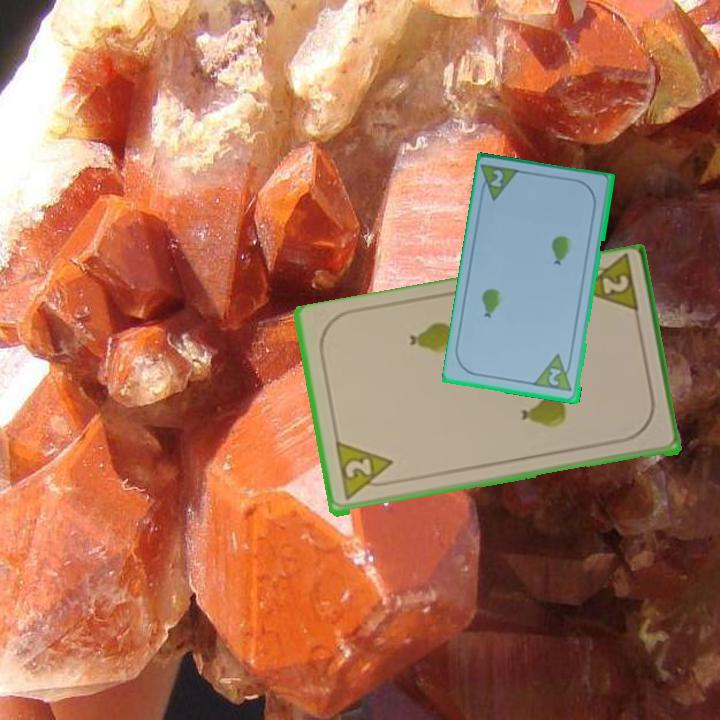2p: (331, 440, 398, 504), (598, 272, 632, 298), (545, 364, 566, 389), (486, 166, 507, 190)
